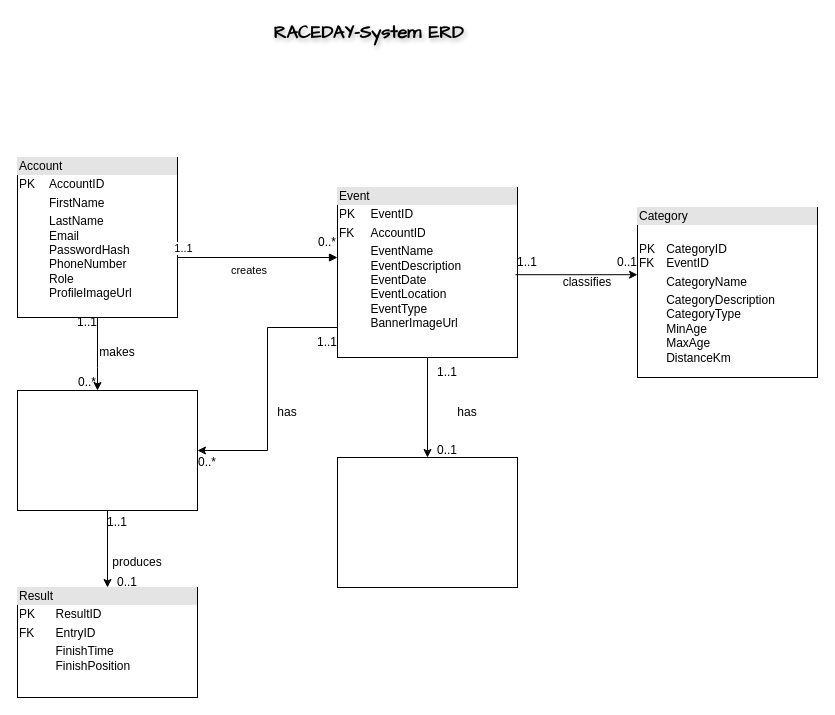
Some shapes in this 835 by 715 pixel diagram are drawn without their labels. Each missing label, with the centre of its shape:
"Entry PK EntryID FK1 FK2 FK3 AccountID EventID CategoryID EntryDate EntryStatus" goes at (107,450).
"Route PK RouteID FK EventID RouteName RouteDescription RouteDistance MapUrl" goes at (427,522).
